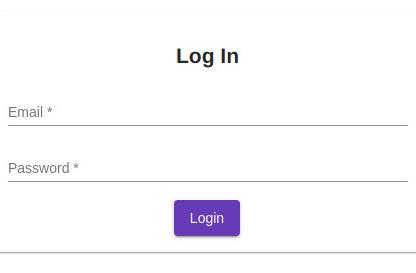button: (173, 199, 242, 239)
field_line: (6, 100, 409, 126), (6, 161, 409, 183)
